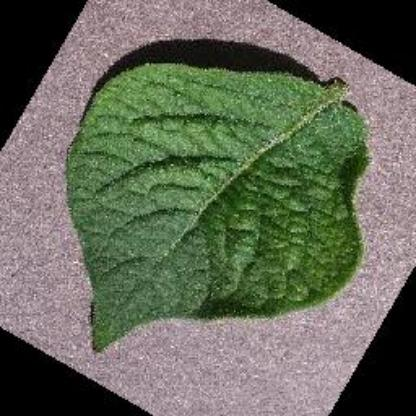Healthy-plant: (61, 53, 378, 354)
